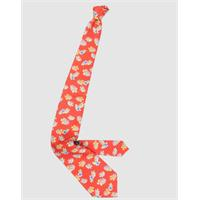tie: (50, 5, 129, 198)
